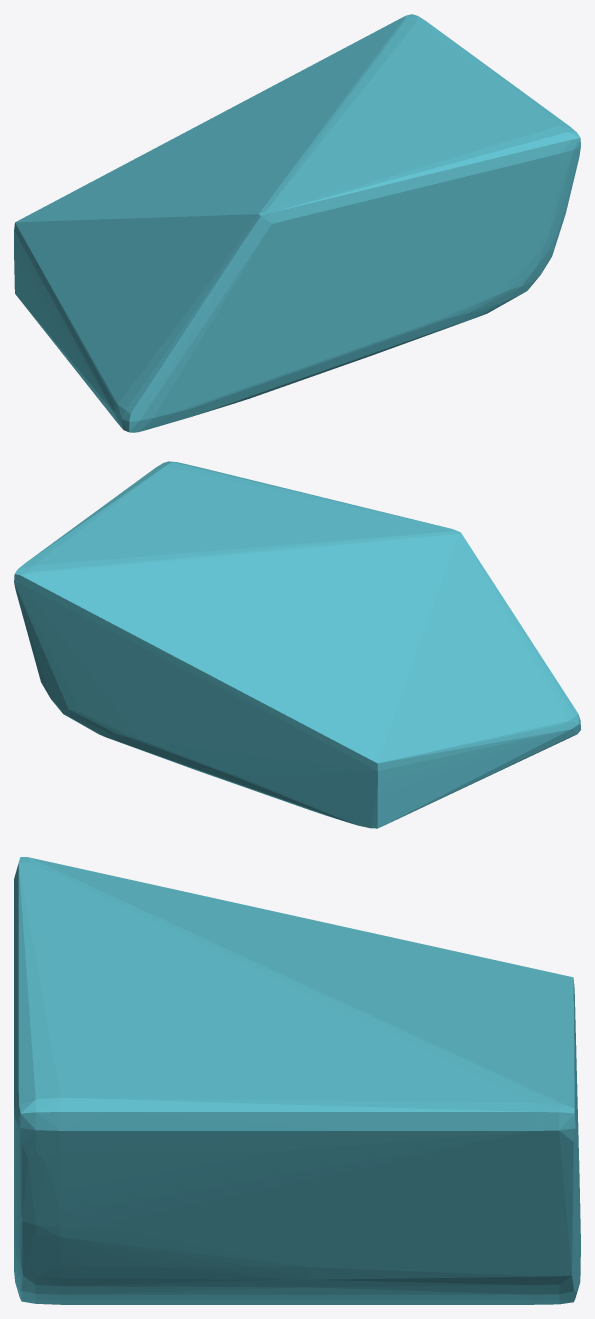
The picture shows the model from 3 angles, top to bottom: view 1: azimuth 30°, elevation 25°; view 2: azimuth 150°, elevation 25°; view 3: azimuth 270°, elevation 25°; orthographic projection. The views are drawn at different scales.
Bounding box in the file's own units: 0.0713 × 0.0292 × 0.0466.
